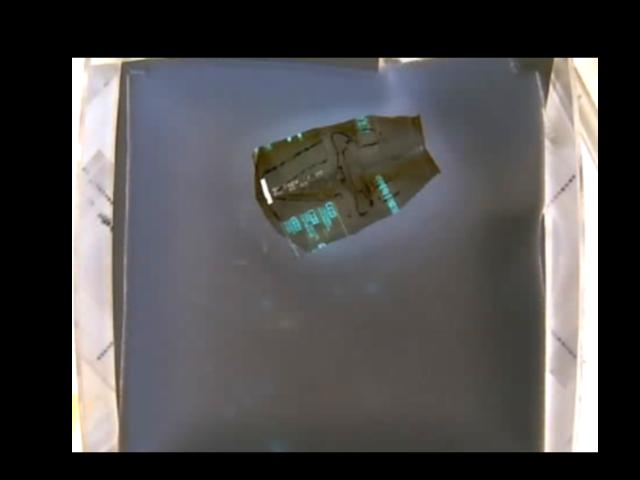Bottle: (251, 112, 440, 259)
